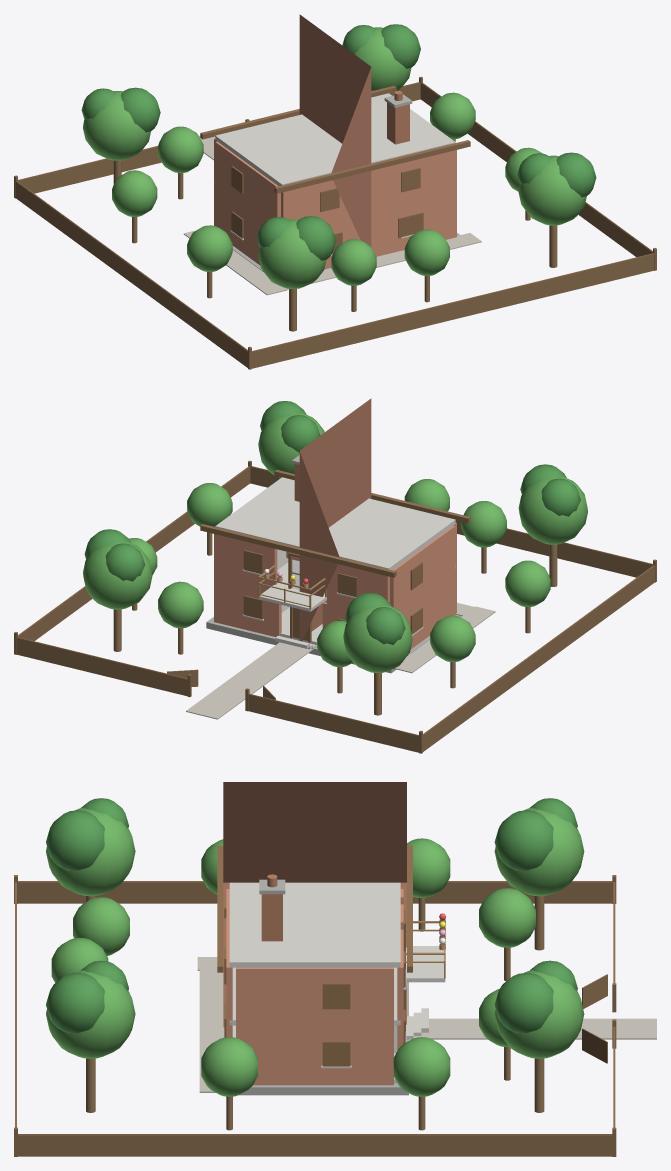
File: garden_house.glb
3 views of the same model, one above another, from view 1: azimuth 30°, elevation 25°; view 2: azimuth 150°, elevation 25°; view 3: azimuth 270°, elevation 25° (orthographic). The views are drawn at different scales.
Parts seen in each view (by area): view 1: Canopy (×7), Canopy1 (×4), Roof, CeilingSlab, Fence_Back, FF_Back, Canopy2 (×4), Fence_Left, GF_Back, FF_Left, Canopy3 (×4), Fence_Front_L (+8 smaller); view 2: Canopy (×7), Canopy1 (×4), Roof, CeilingSlab, Canopy3 (×4), Fence_Left, WalkwayMain, Fence_Front_L, Fence_Front_R, FF_Left, Fence_Back, GF_Front_R (+10 smaller); view 3: Roof, Canopy (×8), Canopy1 (×4), CeilingSlab, Fence_Right, Canopy2 (×4), FF_Right, GF_Right, Fence_Left, WalkwayMain, Canopy3 (×4), WalkwayBack (+12 smaller).
Boxes of the visible parts, x1,y1,x2,y2 form: Canopy (×7): (112, 92, 542, 285); Canopy1 (×4): (83, 27, 586, 289); Roof: (299, 14, 371, 246); CeilingSlab: (215, 93, 455, 185); Fence_Back: (252, 254, 653, 368); FF_Back: (281, 150, 456, 223); Canopy2 (×4): (121, 24, 596, 260); Fence_Left: (16, 182, 247, 367); GF_Back: (324, 192, 456, 269); FF_Left: (215, 141, 280, 222); Canopy3 (×4): (81, 25, 550, 248); Fence_Front_L: (18, 147, 161, 193); Canopy (×7): (158, 479, 550, 667); Canopy1 (×4): (83, 412, 587, 673); Roof: (299, 398, 371, 641); CeilingSlab: (215, 477, 455, 569); Canopy3 (×4): (105, 415, 580, 644); Fence_Left: (423, 566, 654, 751); WalkwayMain: (186, 642, 316, 719); Fence_Front_L: (248, 694, 418, 752); Fence_Front_R: (17, 638, 187, 696); FF_Left: (390, 525, 455, 611); Fence_Back: (250, 467, 652, 577); GF_Front_R: (214, 576, 281, 636); Roof: (223, 782, 406, 1027); Canopy (×8): (51, 838, 535, 1096); Canopy1 (×4): (46, 807, 584, 1058); CeilingSlab: (229, 882, 400, 967); Fence_Right: (18, 1135, 612, 1156); Canopy2 (×4): (46, 810, 553, 1033); FF_Right: (236, 967, 393, 1026); GF_Right: (236, 1027, 393, 1085); Fence_Left: (18, 882, 612, 903); WalkwayMain: (405, 1018, 656, 1039); Canopy3 (×4): (81, 798, 577, 990); WalkwayBack: (199, 969, 224, 1092).
Size of what is drawn, in the model's own units: 28.18 by 13.18 by 30.09.
